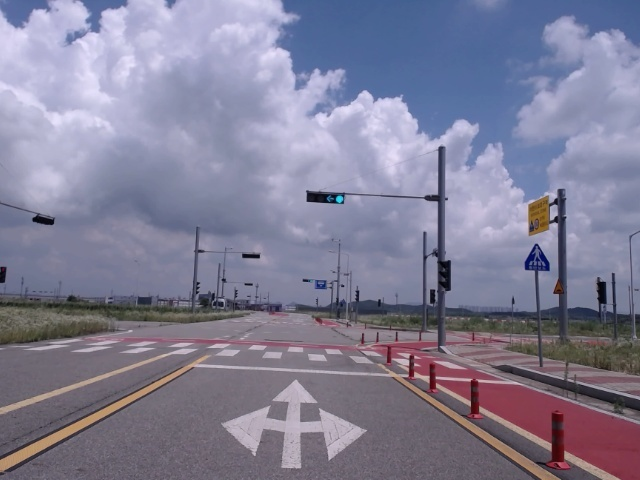all_green_4: (310, 189, 345, 204)
